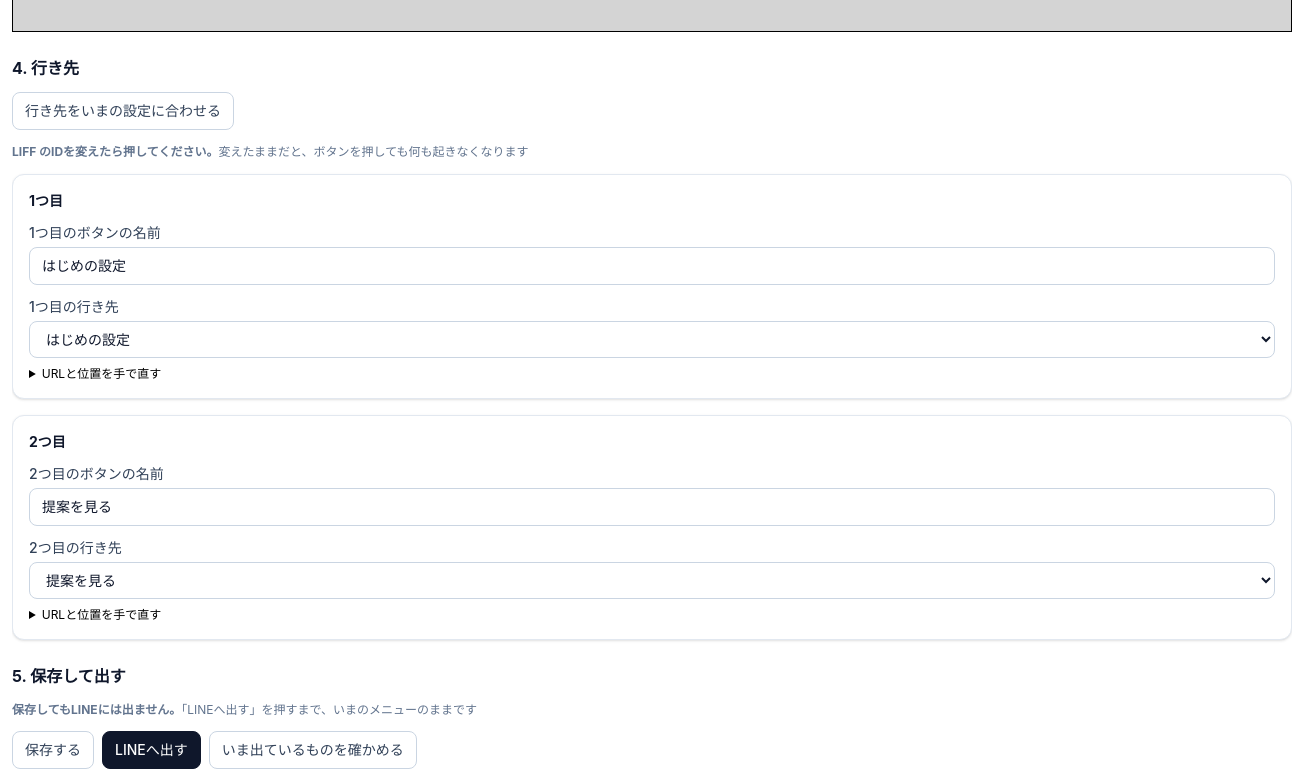
it: いま出ているものを確かめる › 全員に出ているものには「消す」を出さない
(page scrolled)
Click the button "いま出ているものを確かめる".
click(313, 750)  # box [209,731,417,768]
(page scrolled)
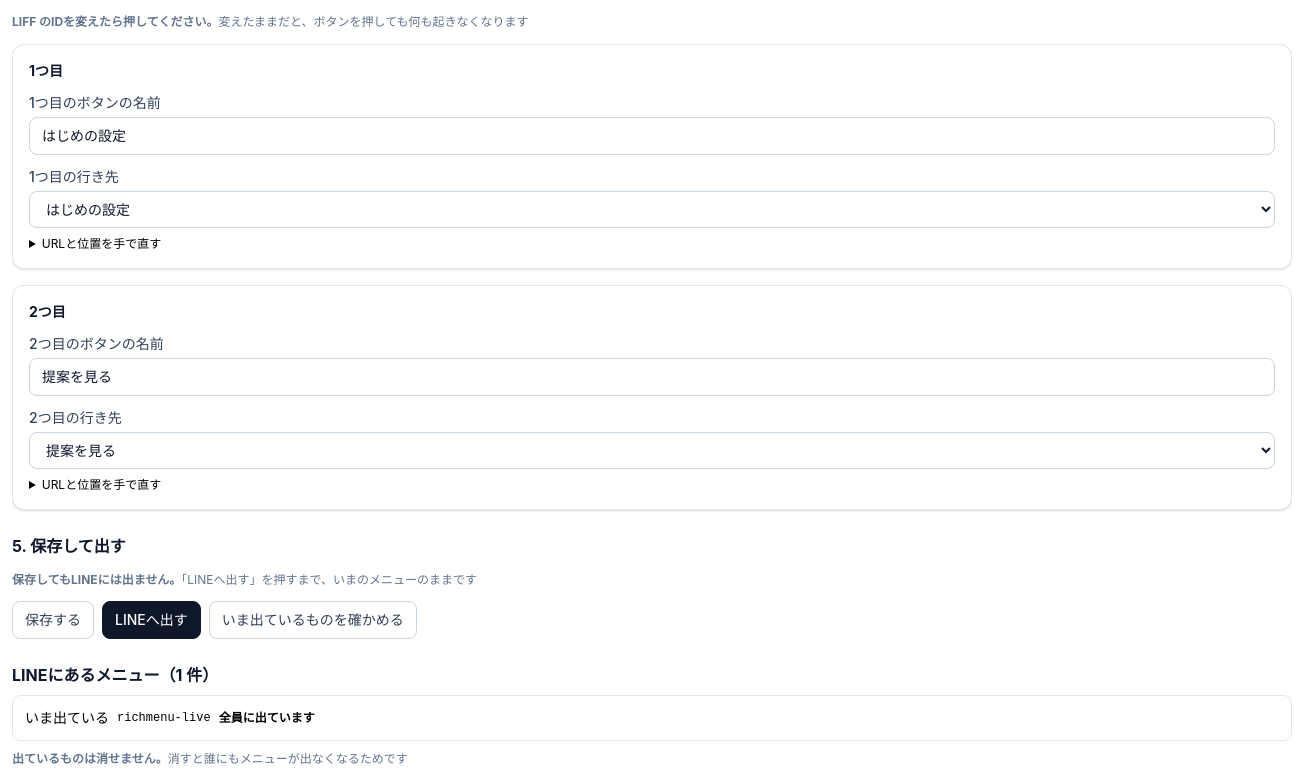
Expected: the text "全員に出ています" is shown, [219,710,315,726]
